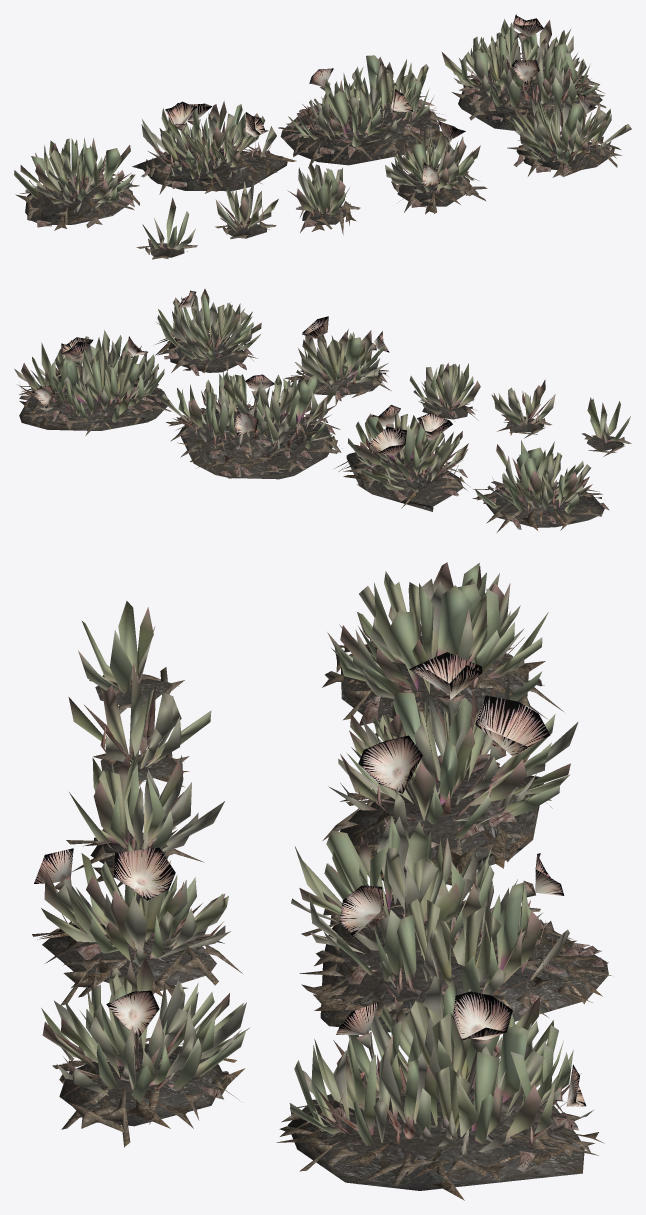
Rendered from cheiridopsis_succulent.glb.
The picture shows the model from 3 angles, top to bottom: view 1: azimuth 30°, elevation 25°; view 2: azimuth 150°, elevation 25°; view 3: azimuth 270°, elevation 25°; orthographic projection. The views are drawn at different scales.
Parts seen in each view (by area): view 1: cheiridopsis_succulent_a_LOD0, cheiridopsis_succulent_d_LOD0; view 2: cheiridopsis_succulent_a_LOD0, cheiridopsis_succulent_d_LOD0; view 3: cheiridopsis_succulent_a_LOD0, cheiridopsis_succulent_d_LOD0.
Part boxes in pixels (<box>): cheiridopsis_succulent_a_LOD0: <box>14,19,631,259</box>; cheiridopsis_succulent_d_LOD0: <box>165,14,596,186</box>; cheiridopsis_succulent_a_LOD0: <box>14,289,631,532</box>; cheiridopsis_succulent_d_LOD0: <box>32,290,452,455</box>; cheiridopsis_succulent_a_LOD0: <box>32,562,613,1200</box>; cheiridopsis_succulent_d_LOD0: <box>34,652,586,1106</box>.
Bounding box in the file's own units: 2.16 × 0.2707 × 0.9587.
2 materials, 2 textured.
